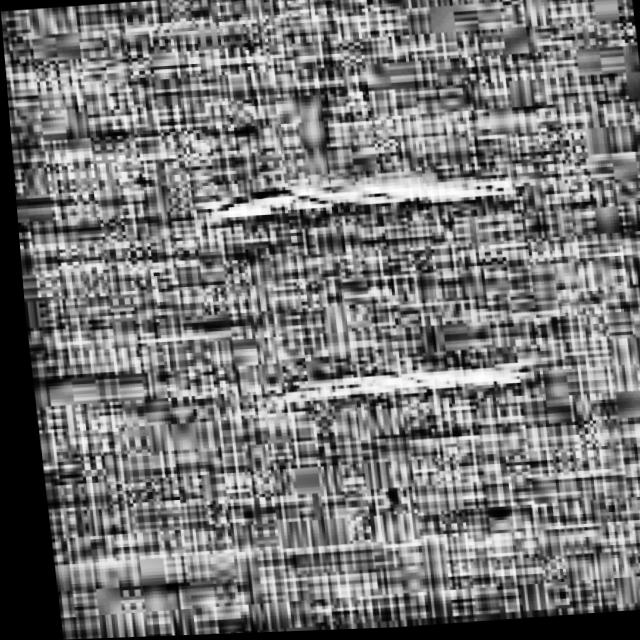Hole: (180, 160, 533, 239), (236, 354, 546, 424)
